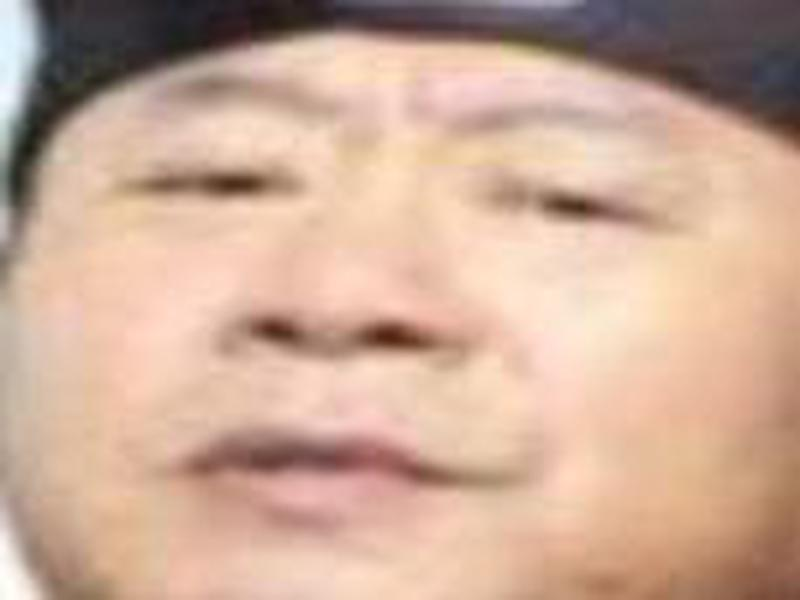without_mask: (4, 51, 800, 593)
